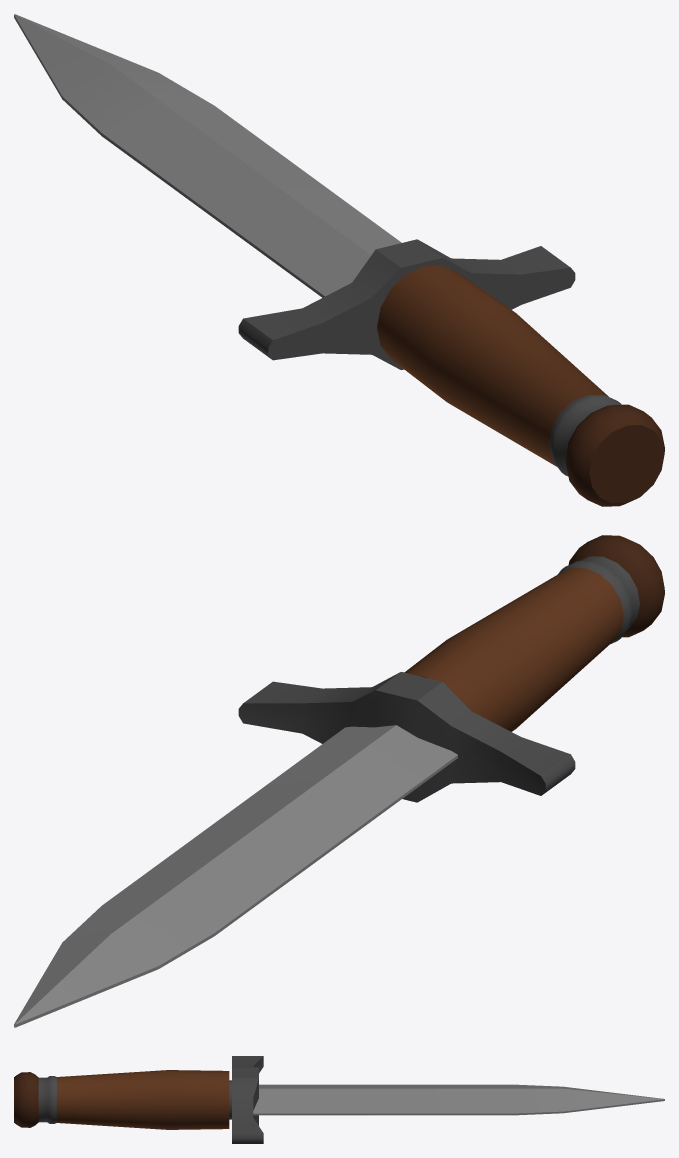
Rendered from SM_Dagger.glb.
3 views of the same model, one above another, from view 1: azimuth 30°, elevation 25°; view 2: azimuth 150°, elevation 25°; view 3: azimuth 270°, elevation 25° (orthographic). The views are drawn at different scales.
Parts seen in each view (by area): view 1: SM_Dagger; view 2: SM_Dagger; view 3: SM_Dagger.
Part boxes in pixels (bbox=[...]): SM_Dagger: bbox=[14, 14, 664, 506]; SM_Dagger: bbox=[14, 535, 664, 1027]; SM_Dagger: bbox=[14, 1056, 664, 1143].
Size of the model in its own units: 0.2785 by 0.0887 by 0.9617.
